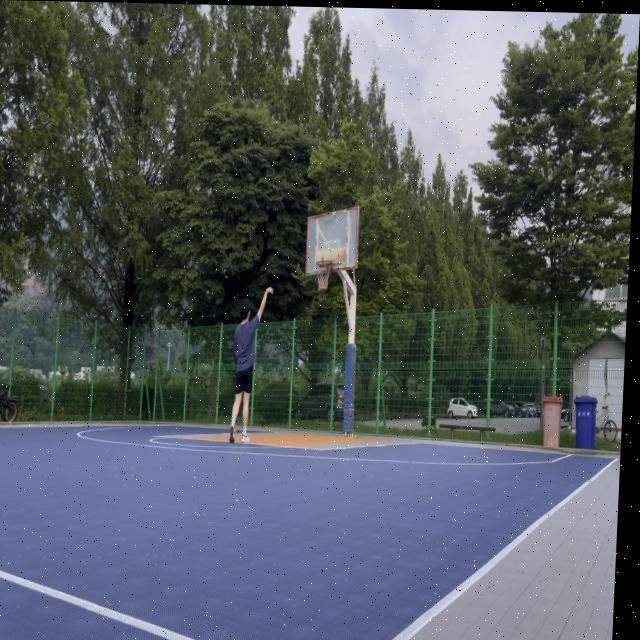basketball: (318, 279, 328, 295)
hoop: (314, 260, 333, 295), (314, 260, 333, 293)
